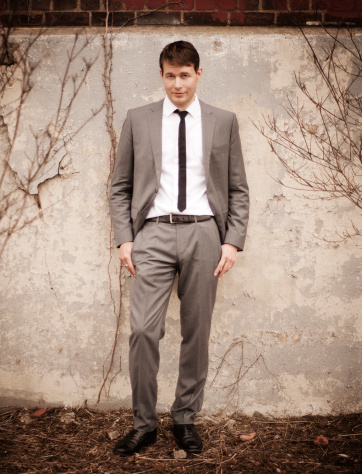em pe: (104, 25, 244, 467)
